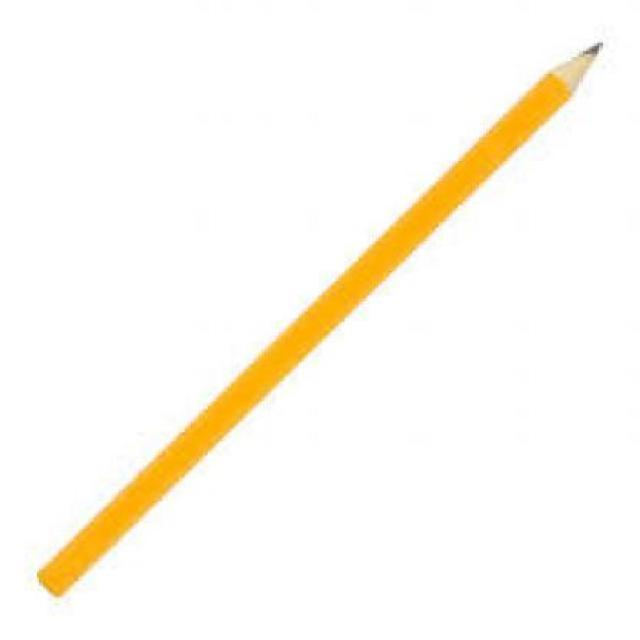pencil: (518, 22, 618, 122)
